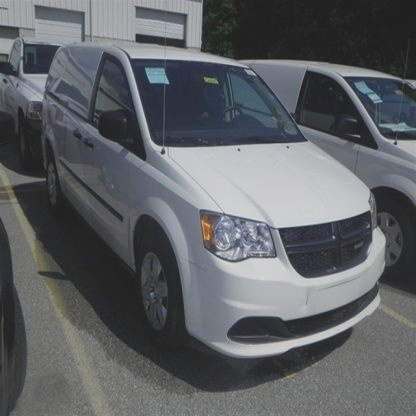Vehicle: (40, 36, 389, 366)
